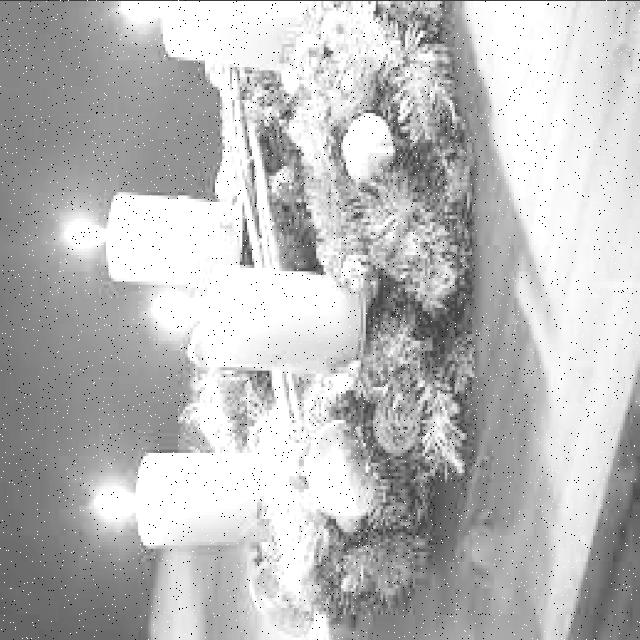api: (88, 473, 145, 523), (147, 292, 211, 328), (55, 213, 115, 249), (115, 5, 162, 31)
